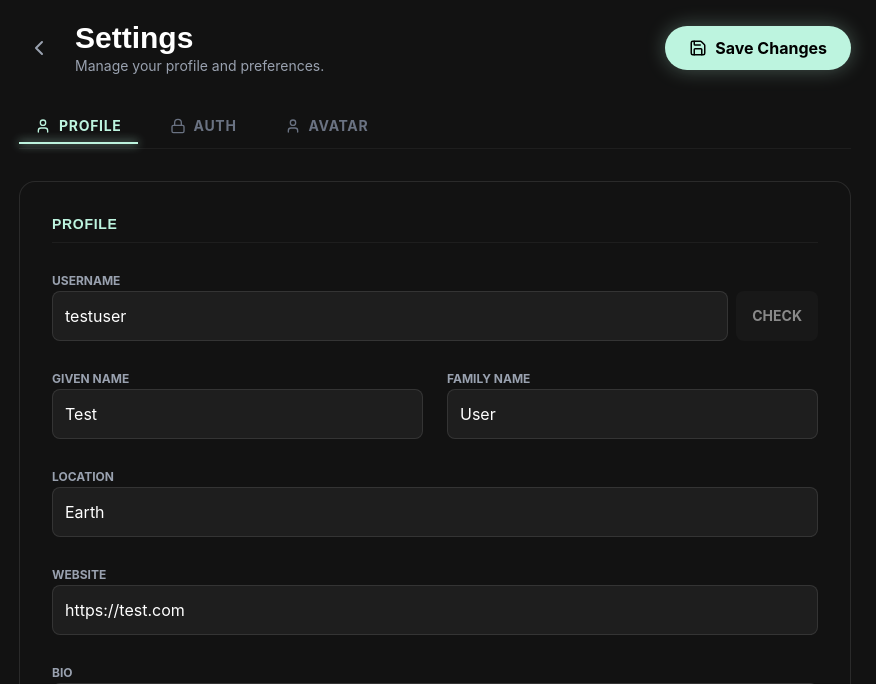
Test: Settings Page › navigates between tabs
Expected: the button "Profile" is shown, [19, 108, 138, 144]
// Go to Auth tab
Step 1. Click the button "Auth" → (203, 126), box [154, 108, 252, 144]
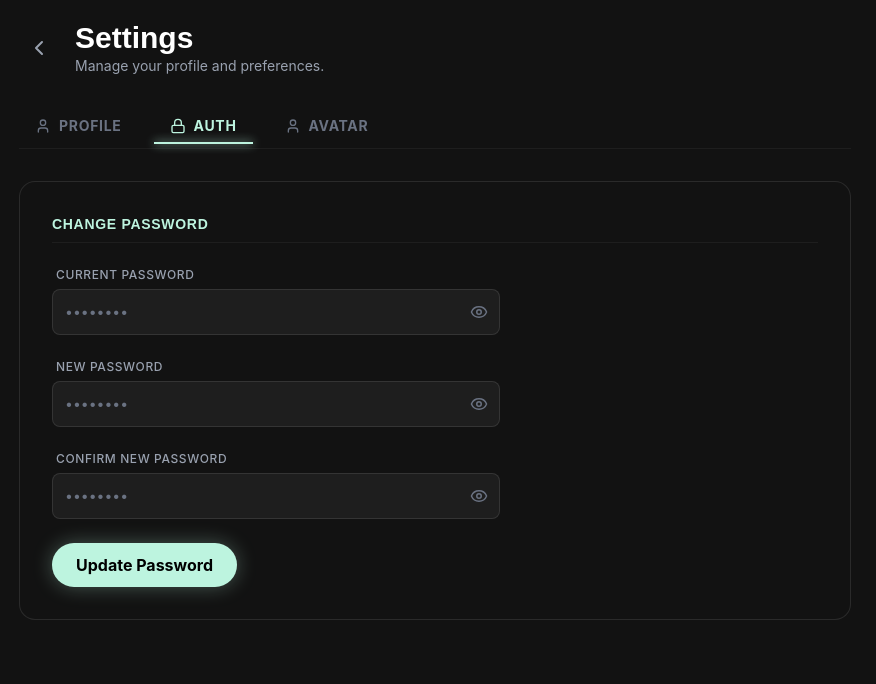
Expected: the heading "Change Password" is shown, [52, 214, 818, 243]
// Go to Avatar tab
Step 2. Click the button "Avatar" → (327, 126), box [269, 108, 384, 144]
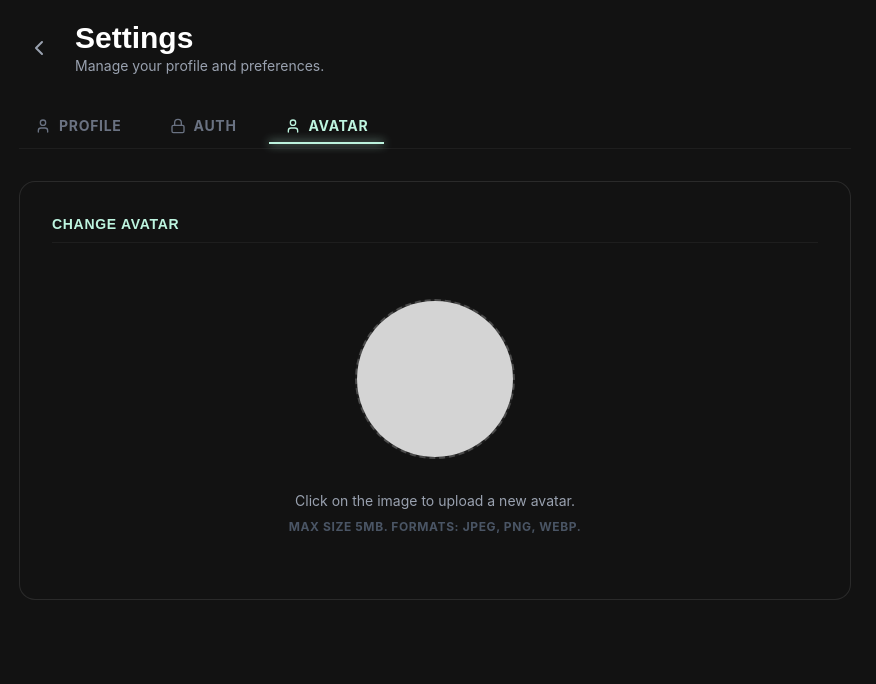
Expected: the heading "Change Avatar" is shown, [52, 214, 818, 243]
